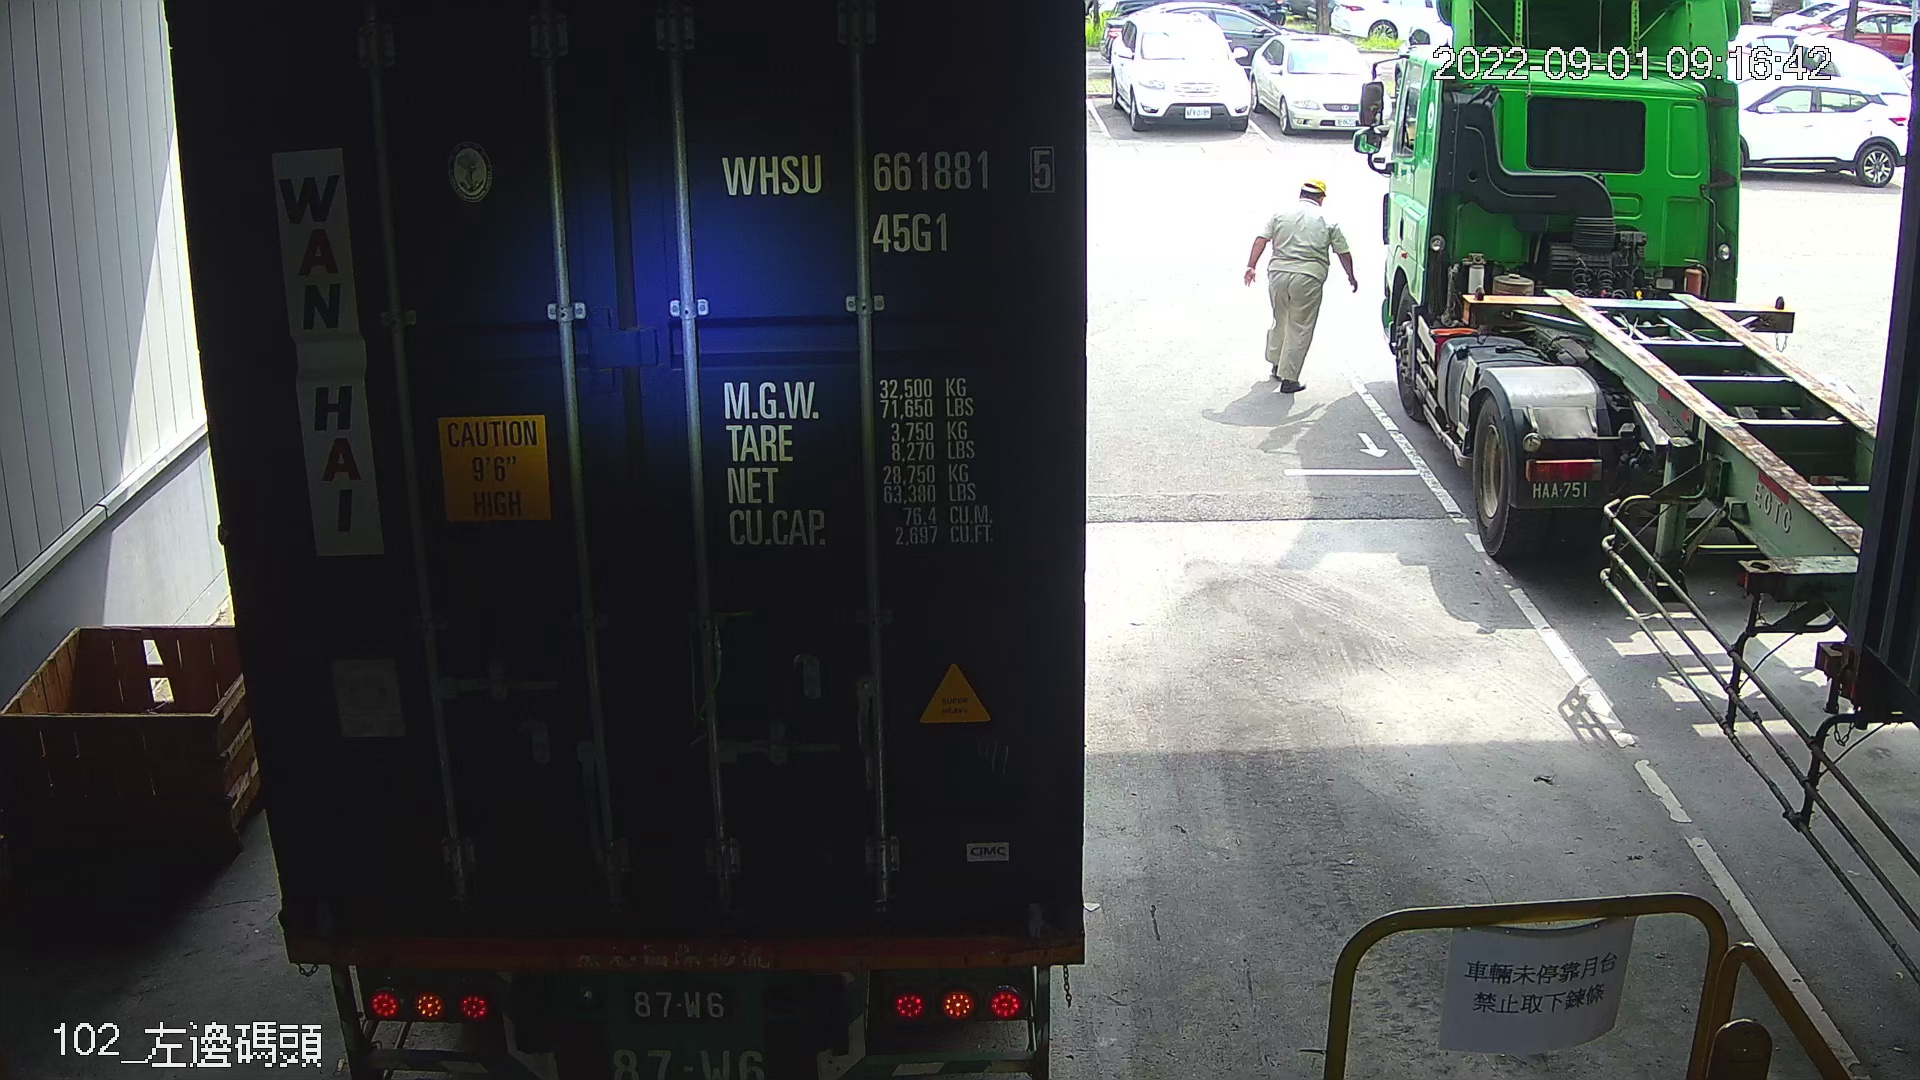container: (705, 138, 1064, 264)
